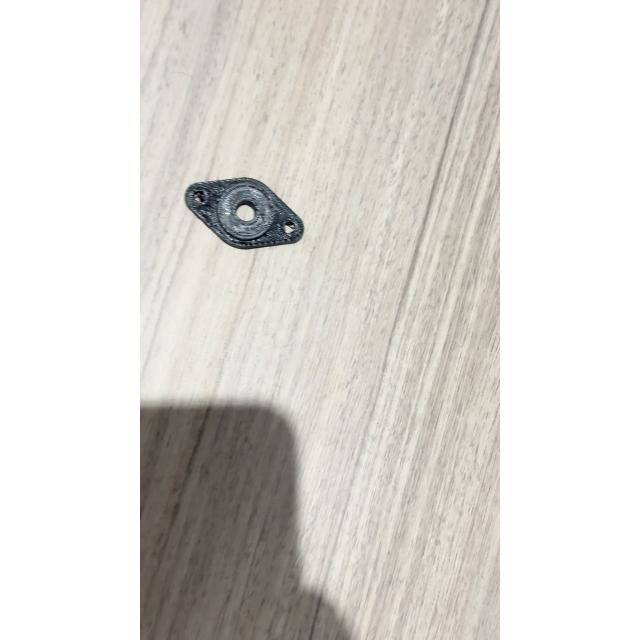Pieza_2: (175, 172, 307, 258)
